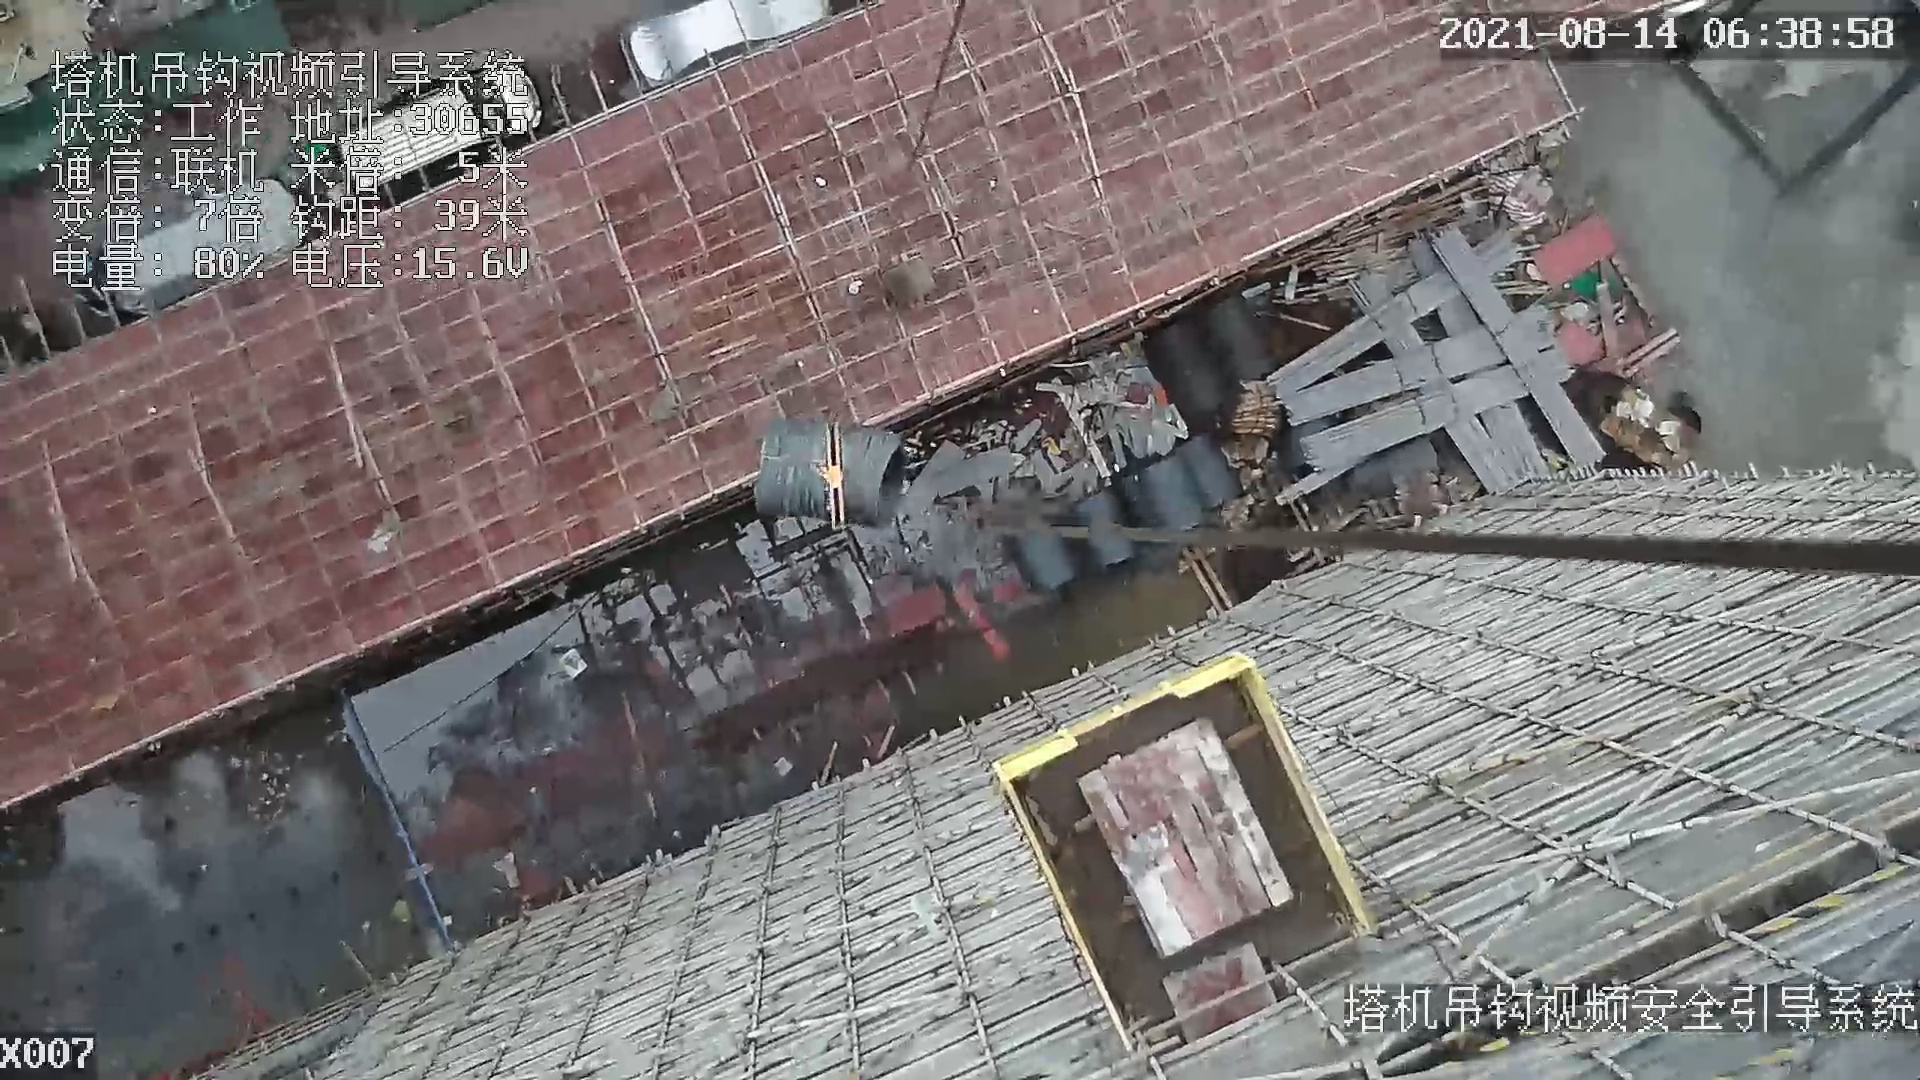hook: (808, 419, 851, 530)
